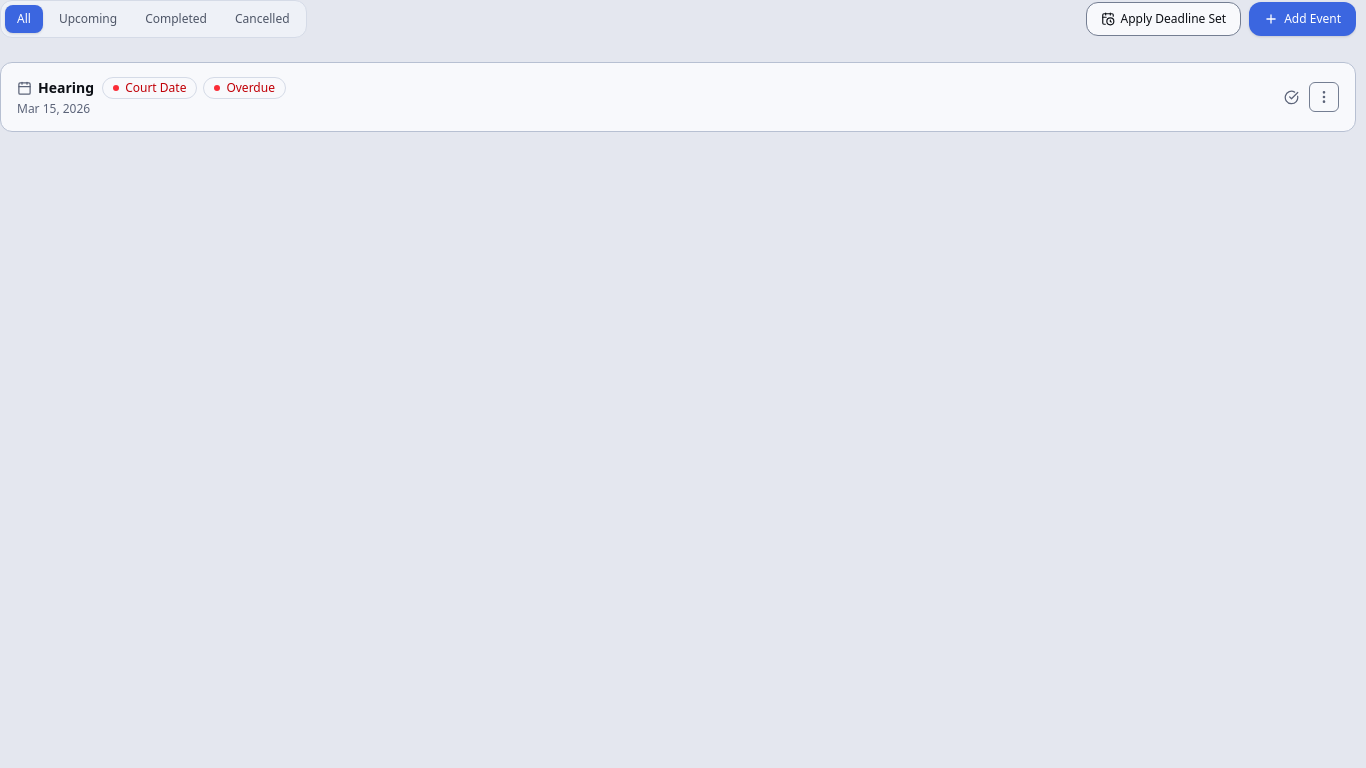
Test case: editing an event › PUTs the changed title to the event and the list then shows it
Check: the text "Hearing" is shown, box [38, 78, 94, 98]
Click the button named "More actions".
click(1324, 97)  # box [1309, 82, 1339, 112]
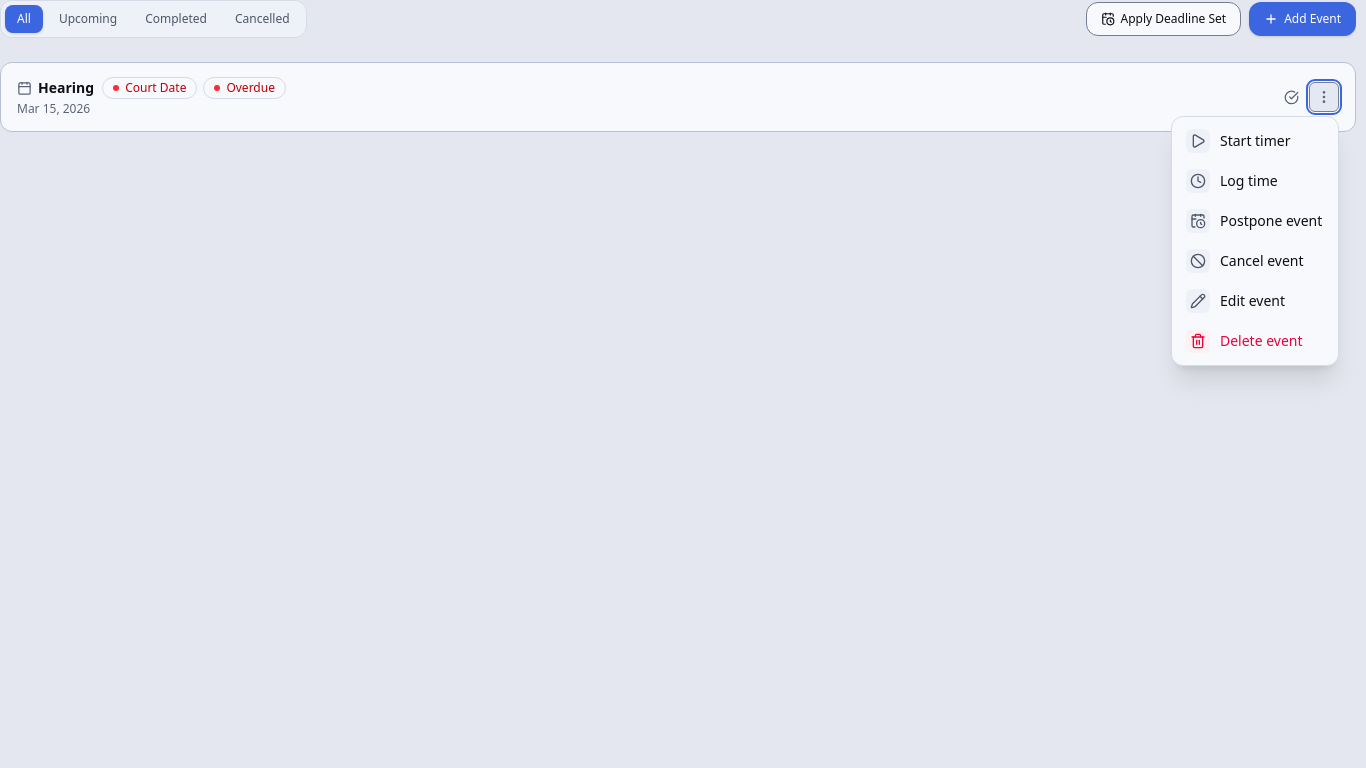
Click the menu item "Edit event".
click(1255, 301)  # box [1176, 281, 1334, 321]
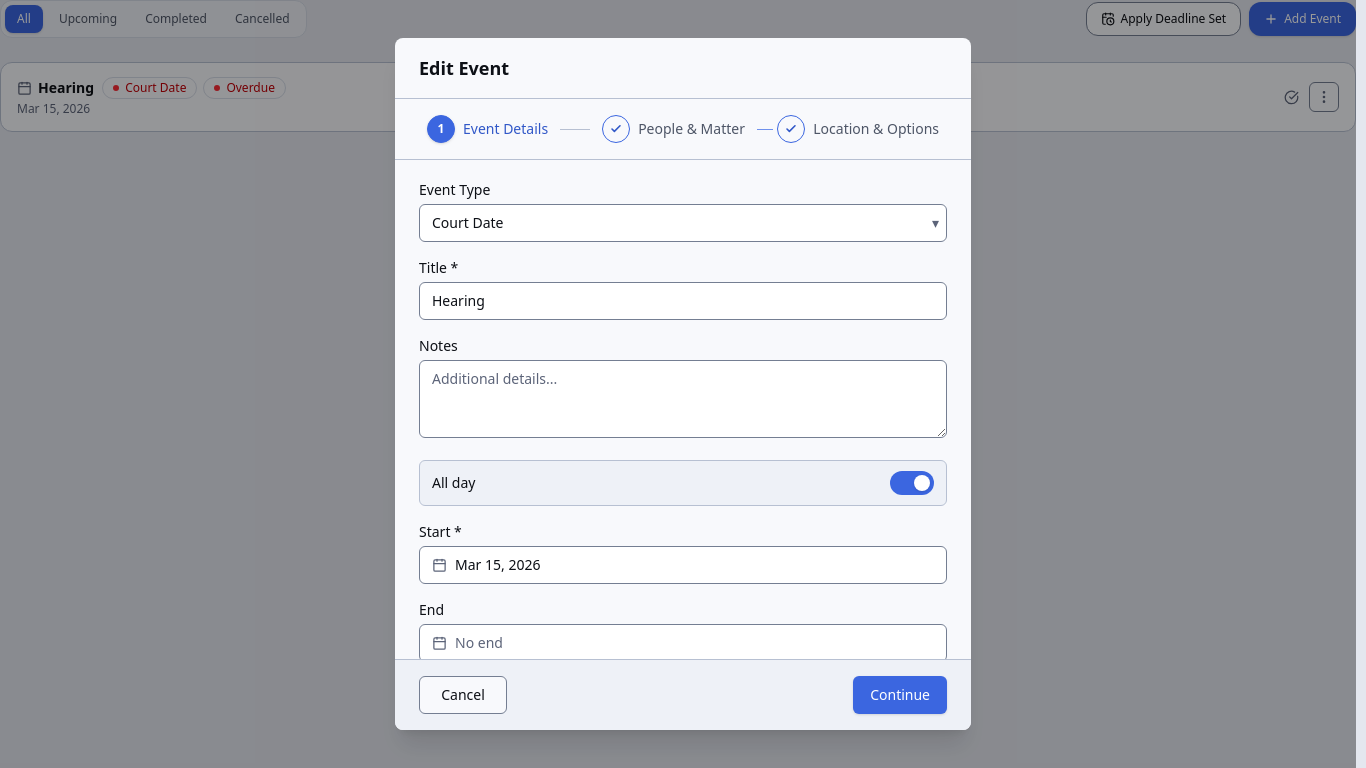
Replace the text in the field with placeholder "e.g. Motion to Dismiss Hearing" with "Hearing (rescheduled)" at (683, 301), box [419, 282, 947, 320]
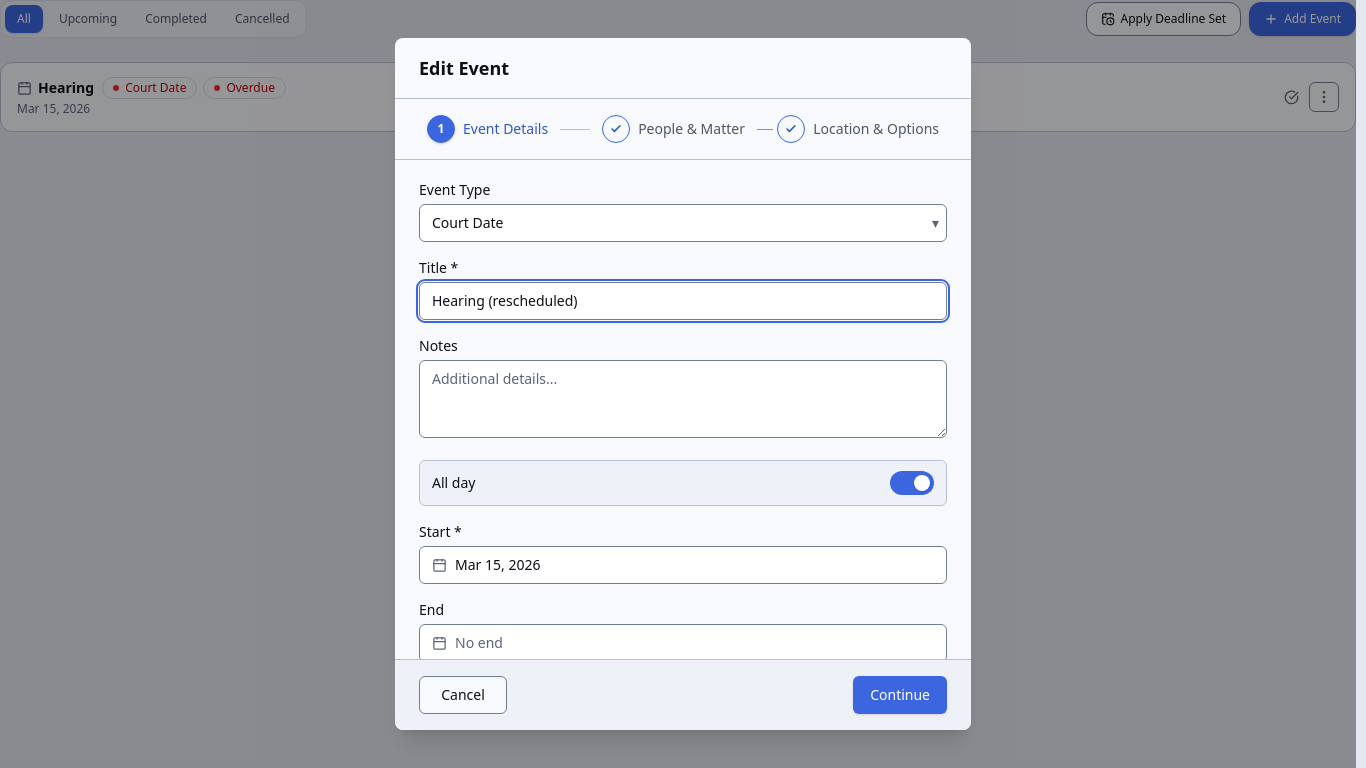
Click the button "Continue".
click(900, 695)  # box [853, 676, 947, 714]
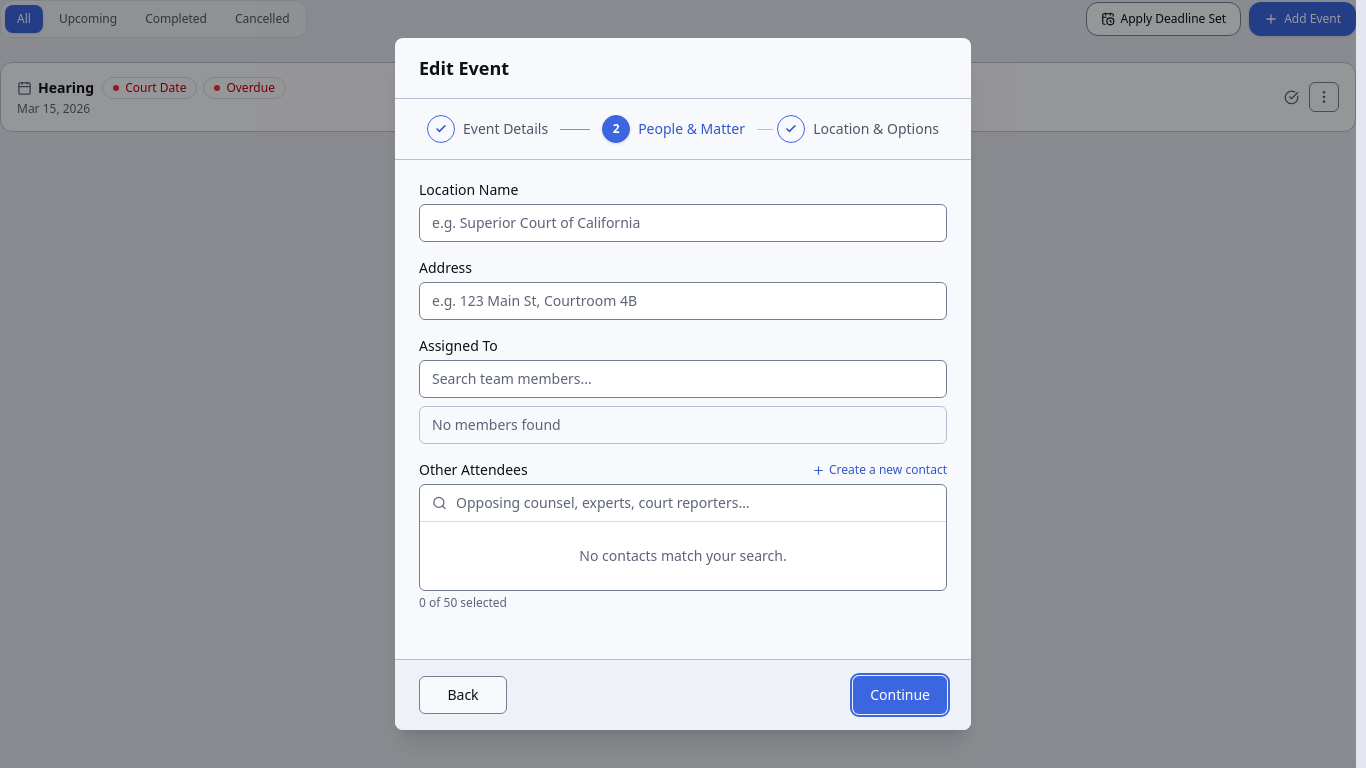
Click the button "Continue".
click(900, 695)  # box [853, 676, 947, 714]
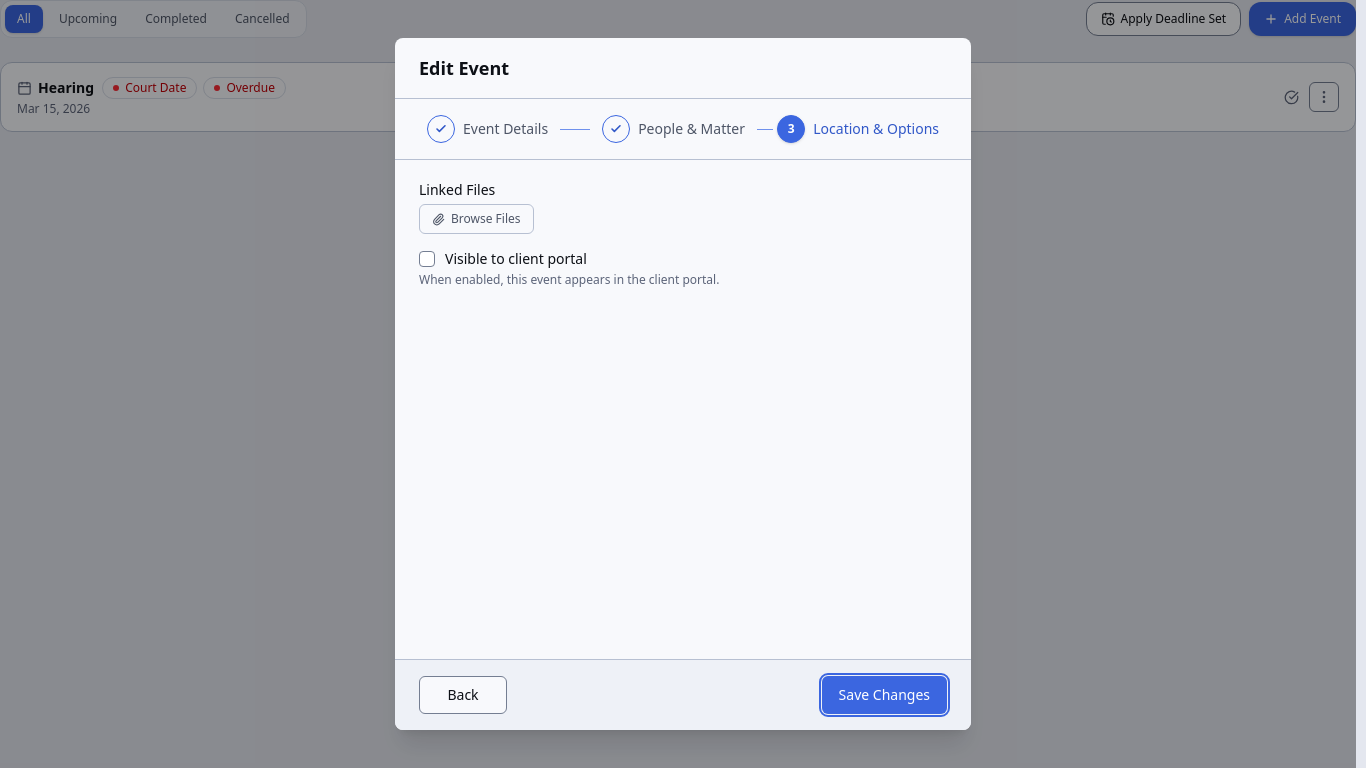
Click the button "Save Changes".
click(884, 695)  # box [822, 676, 947, 714]
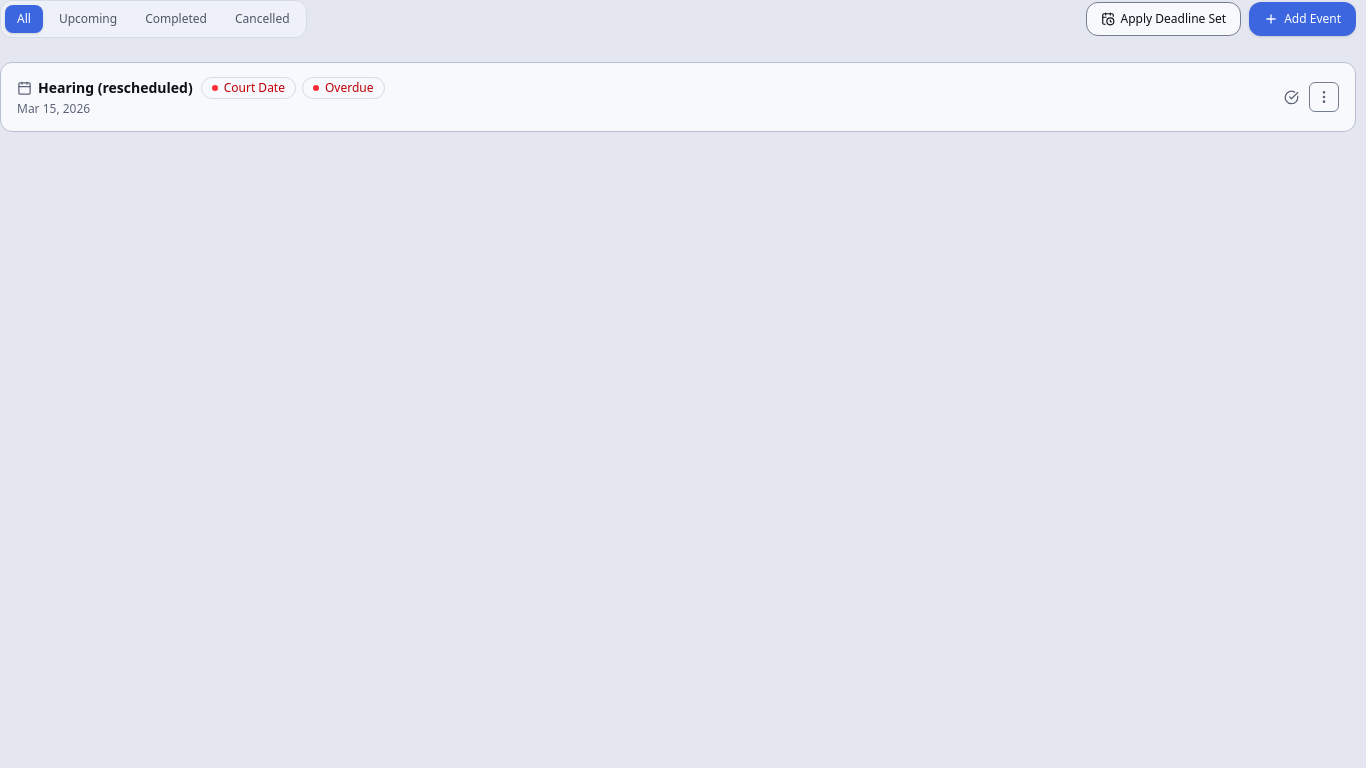
Check: the text "Hearing (rescheduled)" is shown, box [38, 78, 193, 98]
